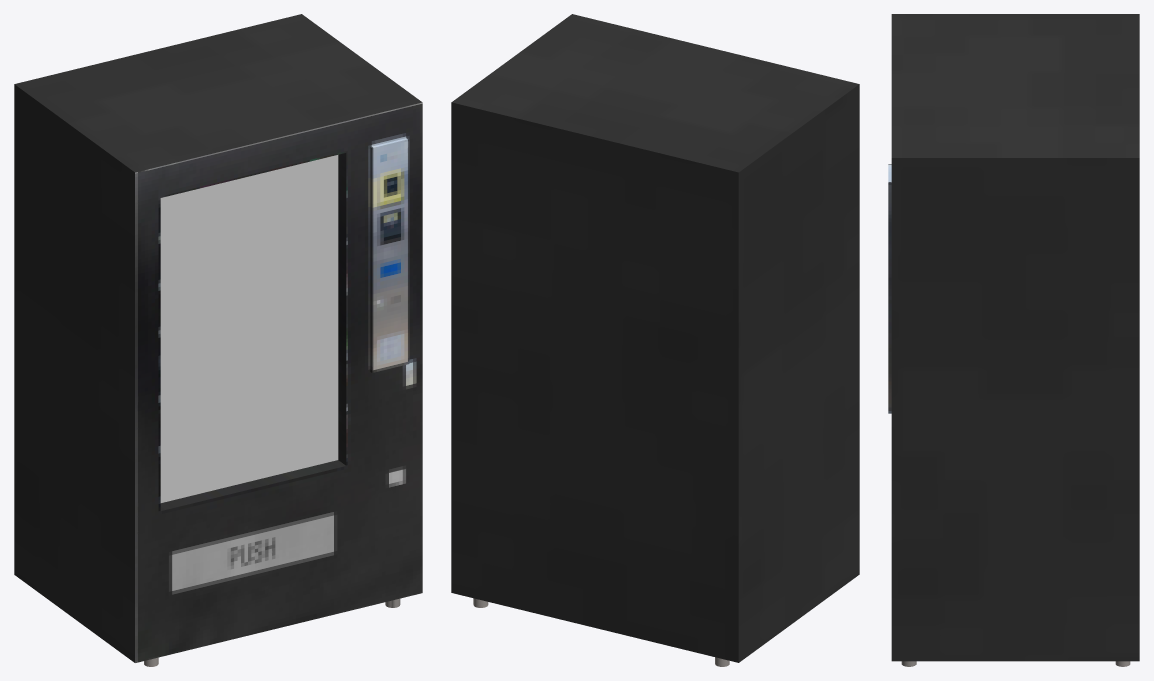
The model's file is Vending Machine.fbx.
The picture shows the model from 3 angles, left to right: view 1: azimuth 30°, elevation 25°; view 2: azimuth 150°, elevation 25°; view 3: azimuth 270°, elevation 25°; orthographic projection. The views are drawn at different scales.
Parts seen in each view (by area): view 1: Vendiing_Machine, Glass; view 2: Vendiing_Machine; view 3: Vendiing_Machine.
Boxes of the visible parts, left/top/right/bottom form: Vendiing_Machine: left=14, top=14, right=422, bottom=666; Glass: left=160, top=155, right=338, bottom=502; Vendiing_Machine: left=451, top=14, right=859, bottom=666; Vendiing_Machine: left=888, top=14, right=1139, bottom=666.
Bounding box in the file's own units: 1.05 × 1.75 × 0.7715.
